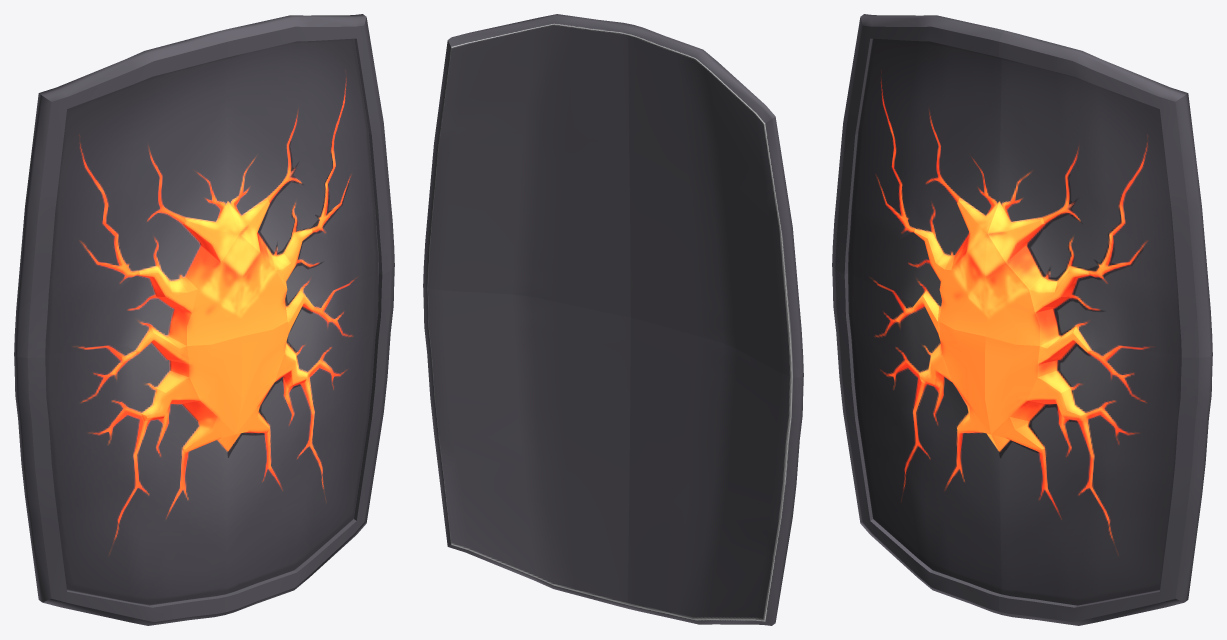
The model's file is Shield.fbx.
3 views of the same model, side by side, from view 1: azimuth 30°, elevation 25°; view 2: azimuth 150°, elevation 25°; view 3: azimuth 330°, elevation 25° (orthographic).
Visible parts, largest first — view 1: pCube1; view 2: pCube1; view 3: pCube1.
Part boxes in pixels (box(x1,y1,x2,y2)): pCube1: box(14, 14, 394, 625); pCube1: box(423, 14, 803, 625); pCube1: box(832, 14, 1212, 625).
Size of the model in its own units: 5.95 by 8.77 by 1.18.
